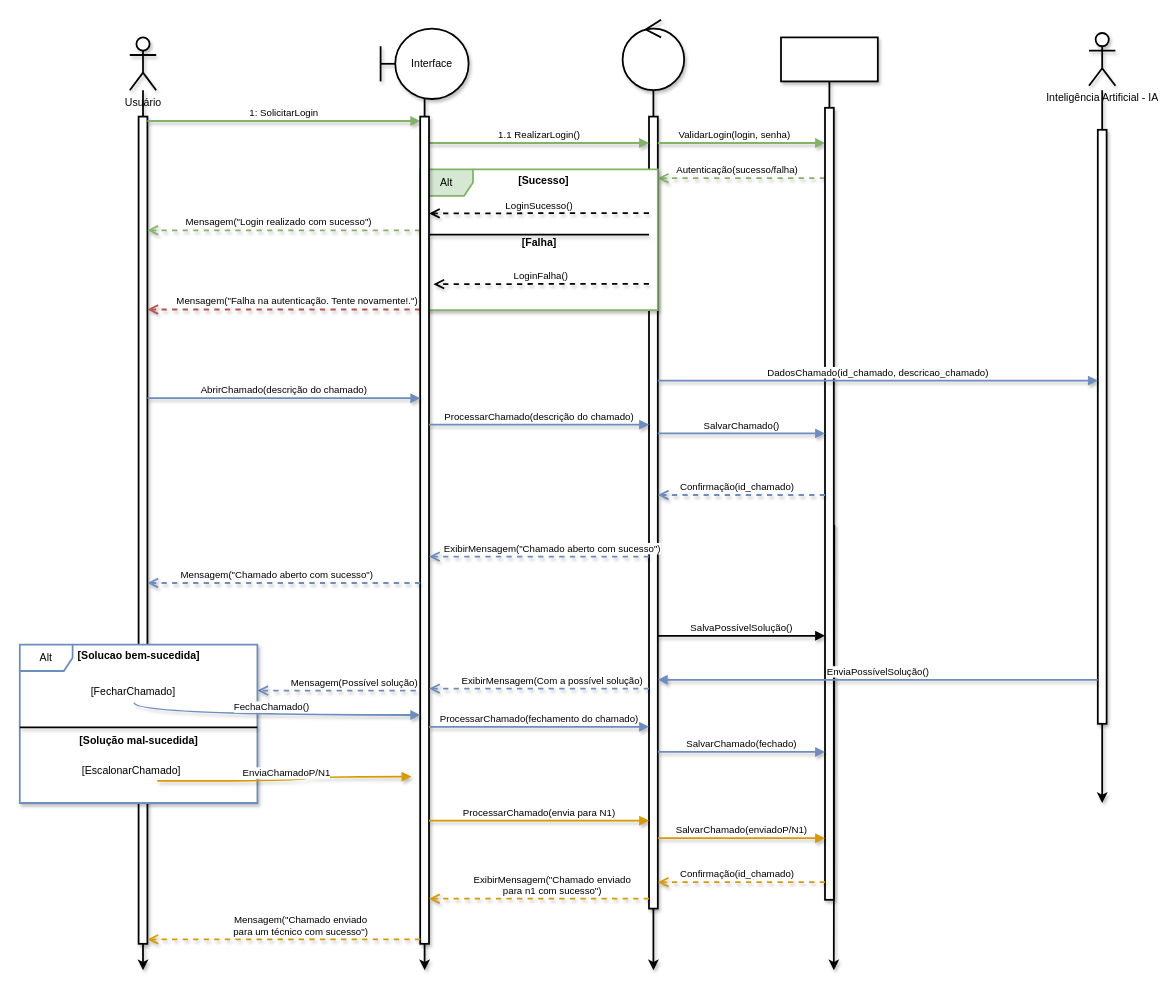
Image size: 1173x999. Some labels were removed from this diagram. Here are the shapes that lost their labels. From the top down, the centre of each, then its label:
point 654,56: Objeto de controle
point 830,60: SistemaBD
